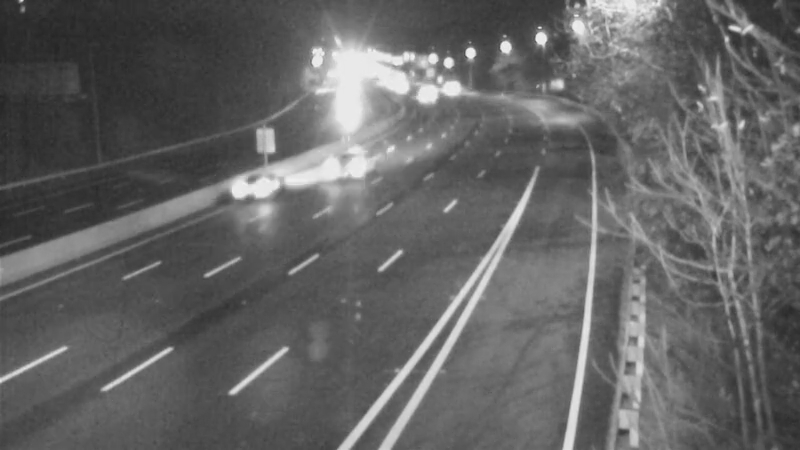vehicle: (301, 127, 381, 207), (202, 149, 282, 229), (421, 63, 471, 113), (400, 73, 450, 123), (315, 77, 365, 127)
